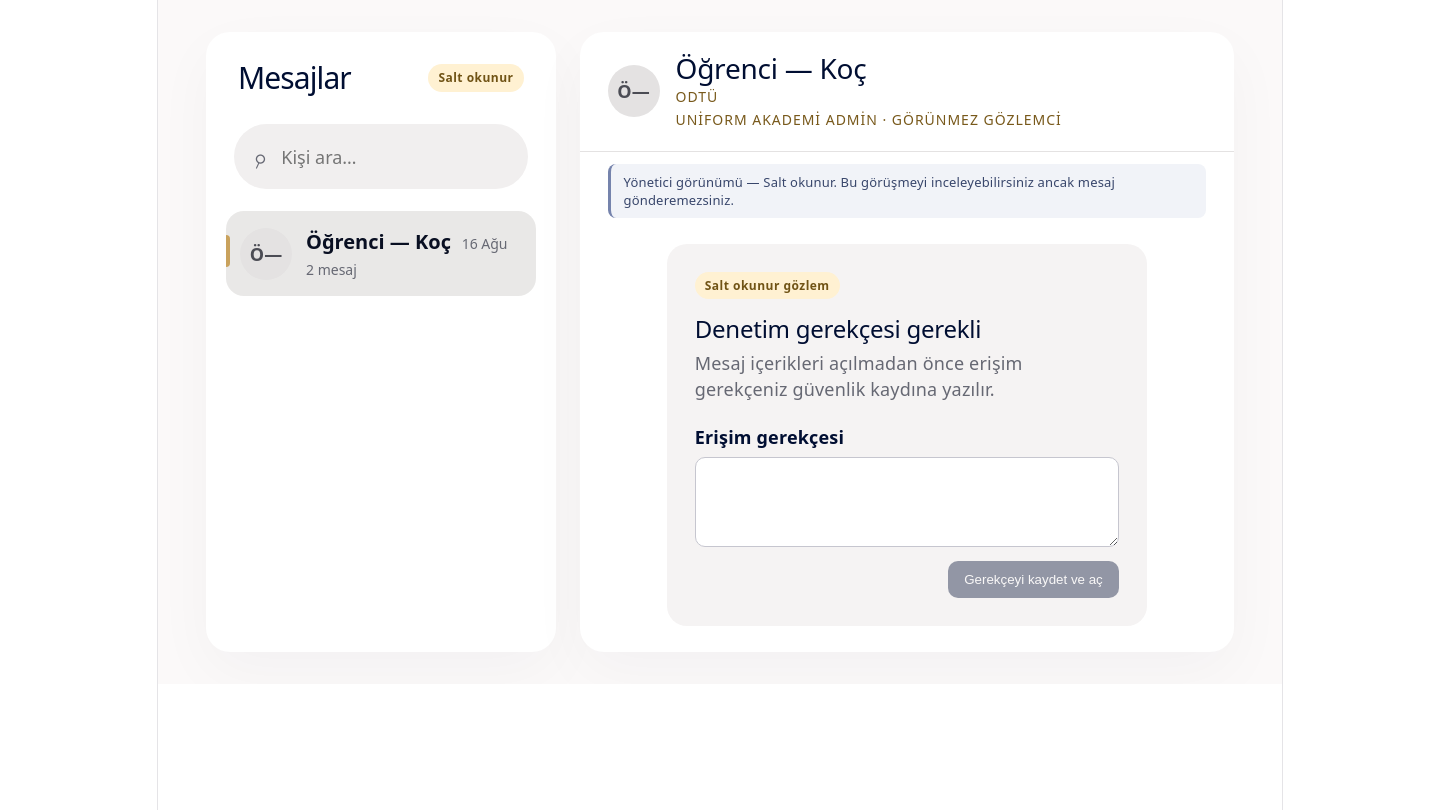
it: real responsive chat page › keeps admin observer audited and read-only without a composer
Expected: the heading "Denetim gerekçesi gerekli" is shown, [695,312,981,346]
Expected: the text "Yönetici görünümü — Salt okunur. Bu görüşmeyi inceleyebilirsiniz ancak mesaj gönderemezsiniz." is shown, [624,173,1115,209]
Type "Güvenlik incelemesi" into the text box labelled "Erişim gerekçesi".
click(907, 502); type("Güvenlik incelemesi")  # box [695,457,1119,547]
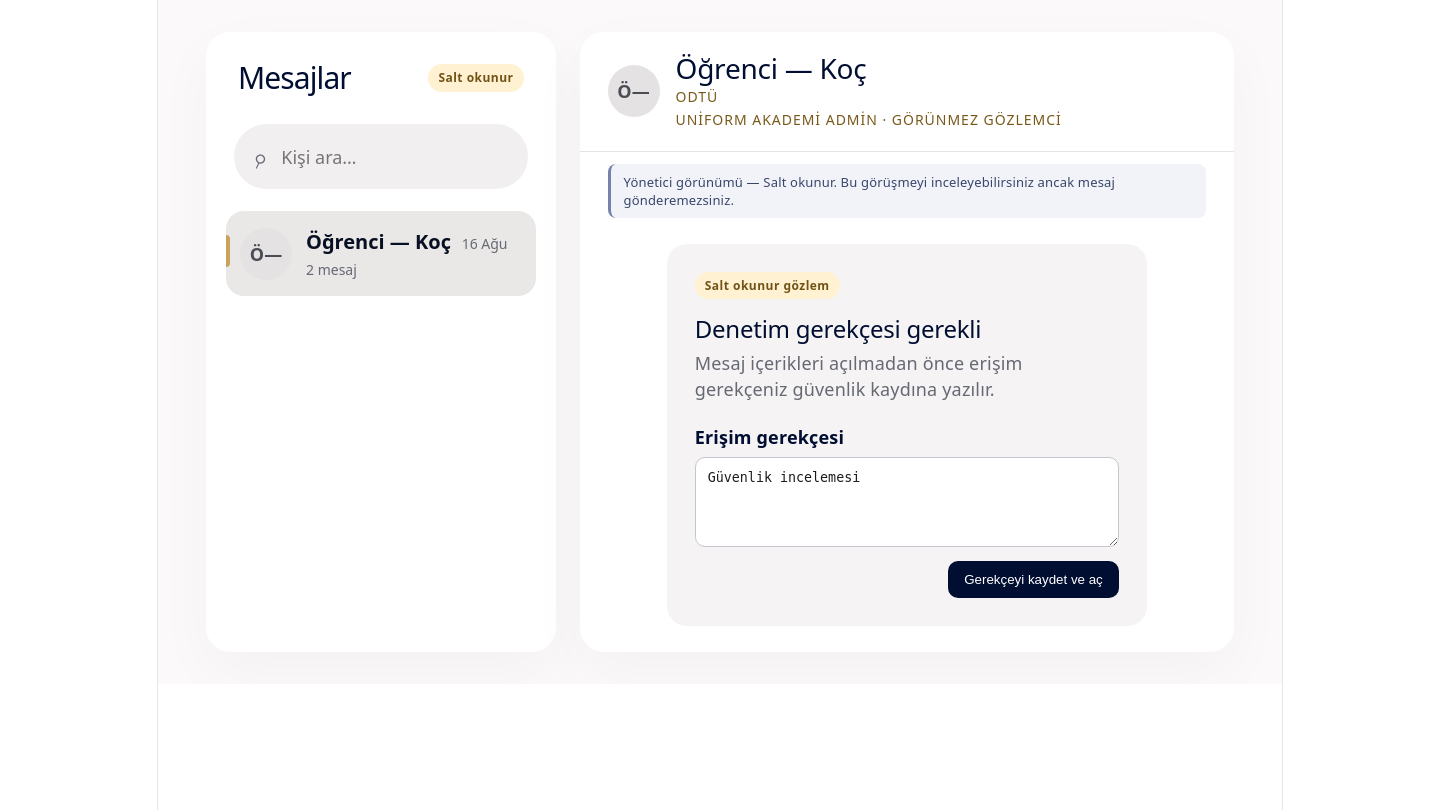
Click the button "Gerekçeyi kaydet ve aç".
click(1033, 580)  # box [948,561,1119,598]
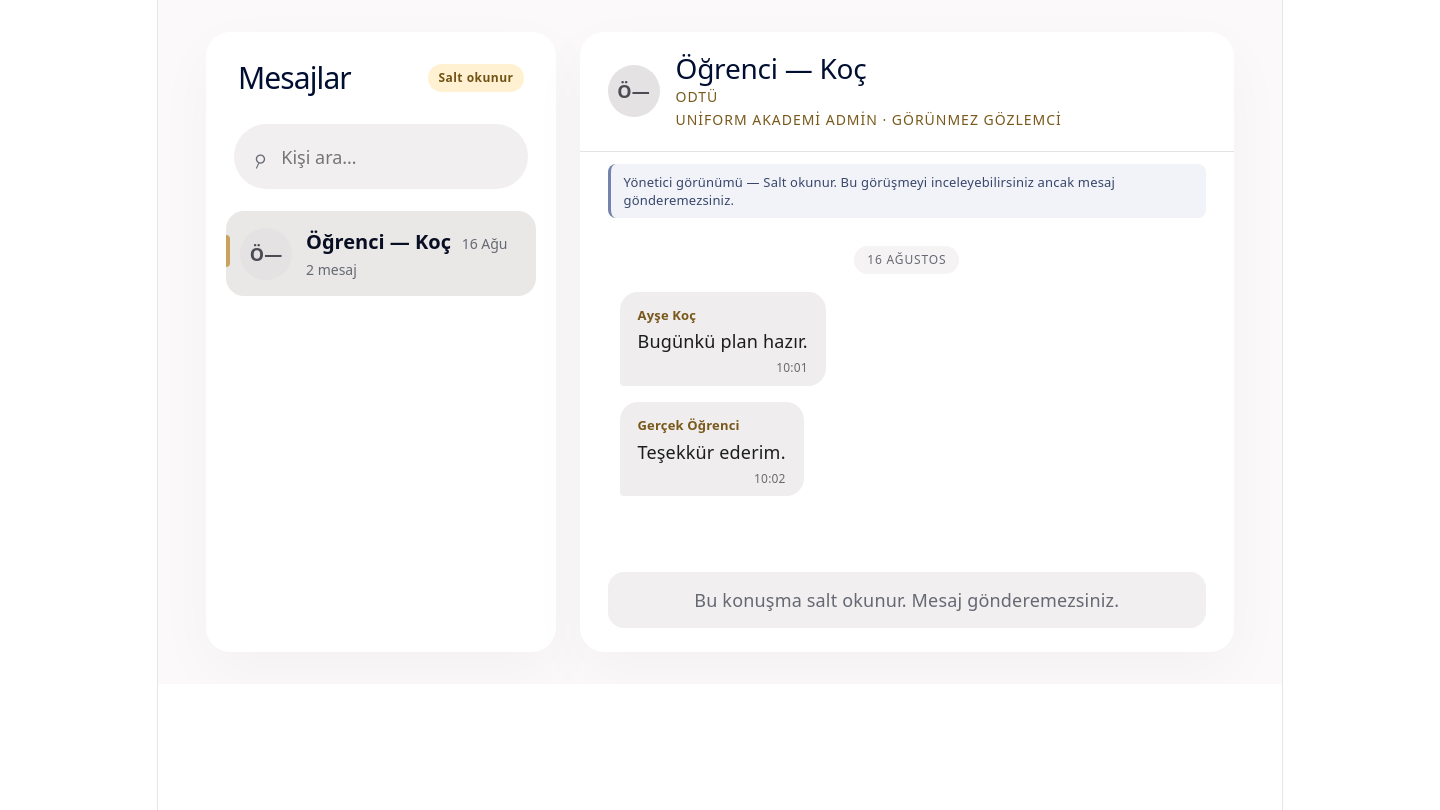
Now the text "Bu konuşma salt okunur. Mesaj gönderemezsiniz." is shown, box [608,572,1206,628]
Now the text "Gerçek Öğrenci" is shown, box [638,416,740,434]
Now the text "Ayşe Koç" is shown, box [638,306,696,324]
